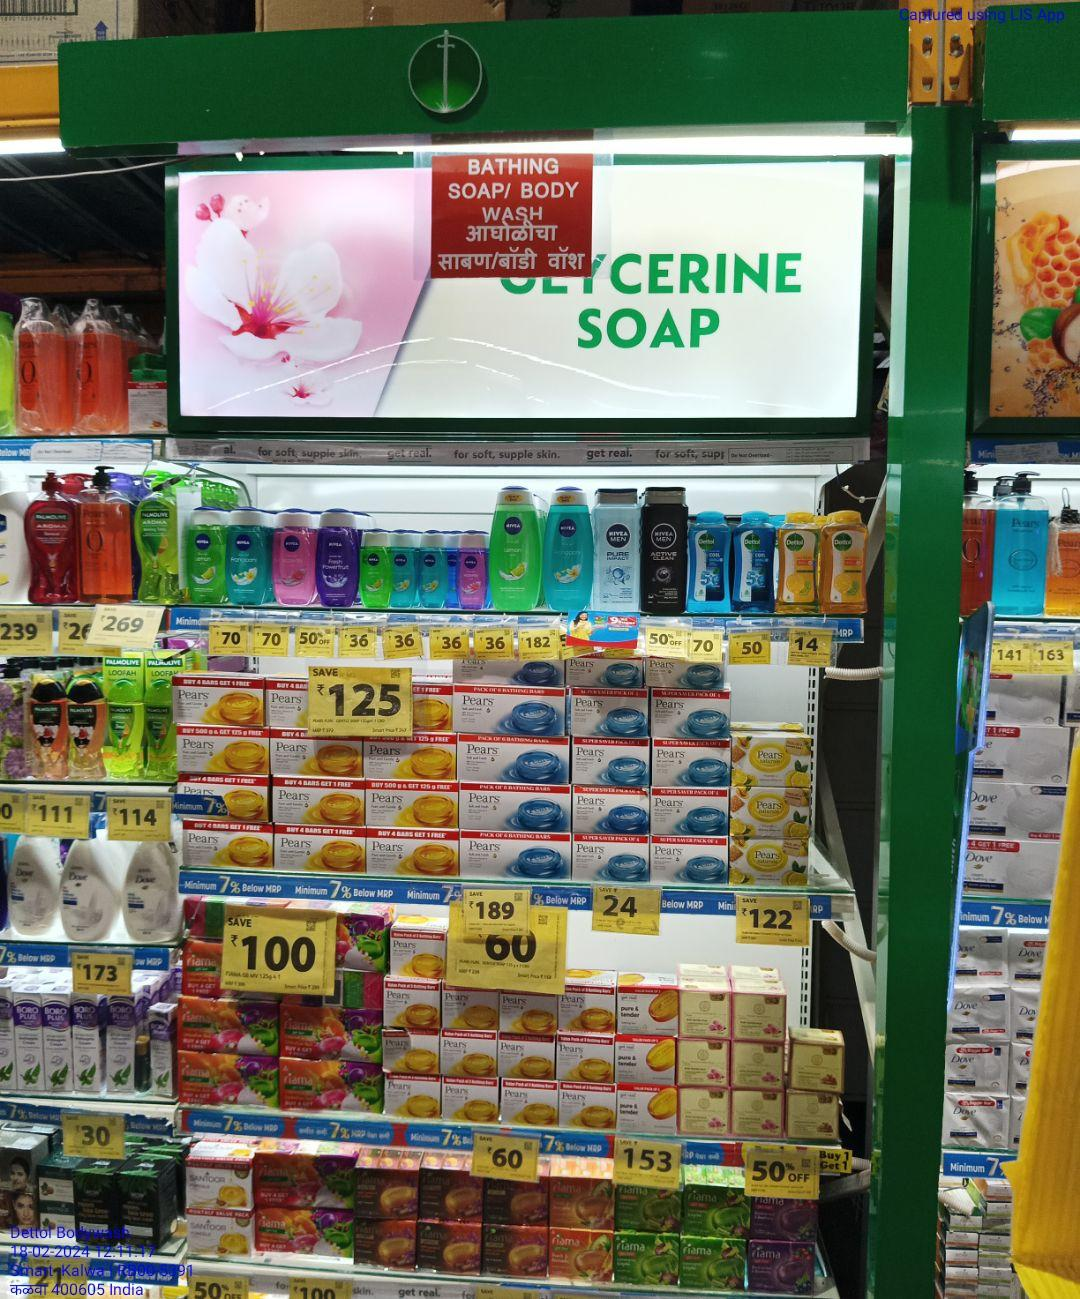Dettol_Bodywash_Cool: (684, 512, 729, 614), (734, 512, 775, 614)
Dettol_Bodywash_Refresh: (820, 509, 866, 616), (777, 511, 819, 615)
Nivea_Shower_Gel_Frangipani_and_Oil_250ML: (544, 486, 592, 612), (227, 508, 268, 606)
Nivea_Shower_Gel_Fresh_Powerfruit_250ML: (317, 507, 358, 607)
Nivea_Shower_Gel_Lemon_and_Oil_250ML: (492, 486, 539, 613), (186, 507, 224, 607)
Nivea_Shower_Gel_Waterlily_and_Oil_250ML: (272, 508, 313, 604)
Palmolive_Aroma_Morning_Tonic_Shower_Gel_250ML: (107, 679, 145, 781), (145, 678, 175, 780)
Palmolive_Luminous_Oils_With_White_Orchid_Shower_Gel_250ML: (28, 678, 67, 781), (67, 680, 106, 781)
